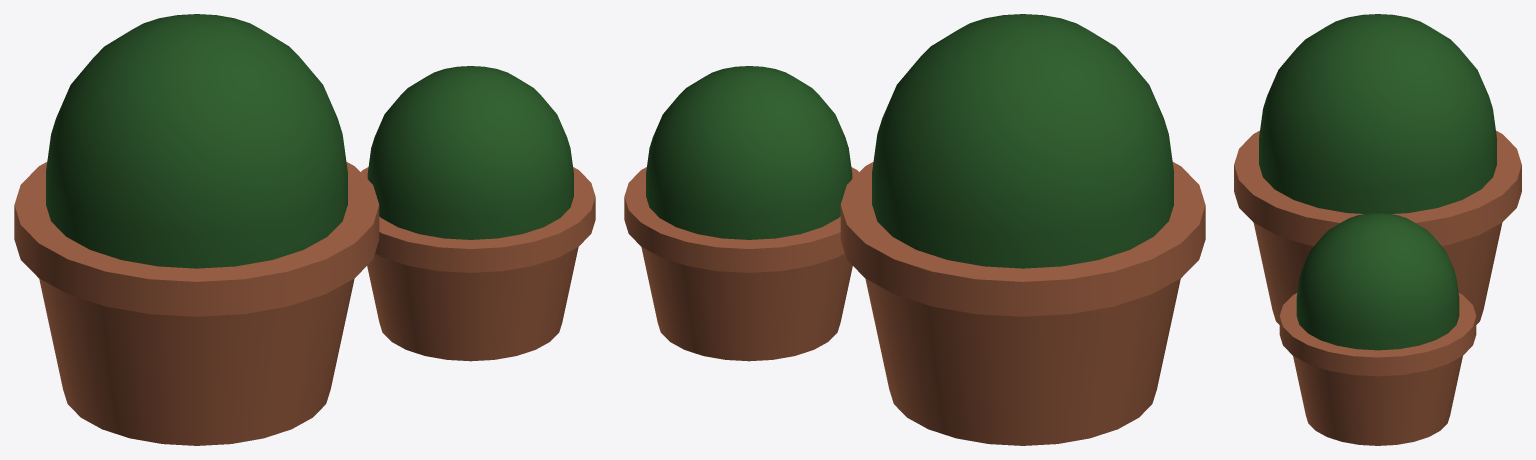
The model's file is object_B3_Plants.glb.
3 renders of one model, left to right at view 1: azimuth 30°, elevation 25°; view 2: azimuth 150°, elevation 25°; view 3: azimuth 270°, elevation 25°, orthographic. The views are drawn at different scales.
Visible parts, largest first — view 1: B3 Plants; view 2: B3 Plants; view 3: B3 Plants.
Part boxes in pixels (x1,y1,x2,y2): B3 Plants: [14, 14, 595, 445]; B3 Plants: [624, 14, 1205, 445]; B3 Plants: [1234, 14, 1521, 445].
Bounding box in the file's own units: 0.6095 × 0.3915 × 0.3567.
